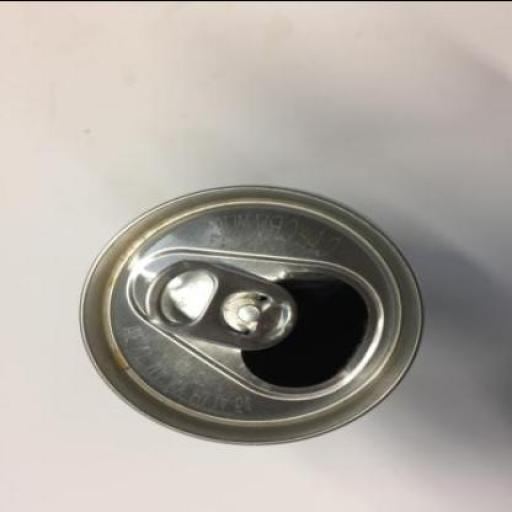metal: (79, 181, 423, 444)
